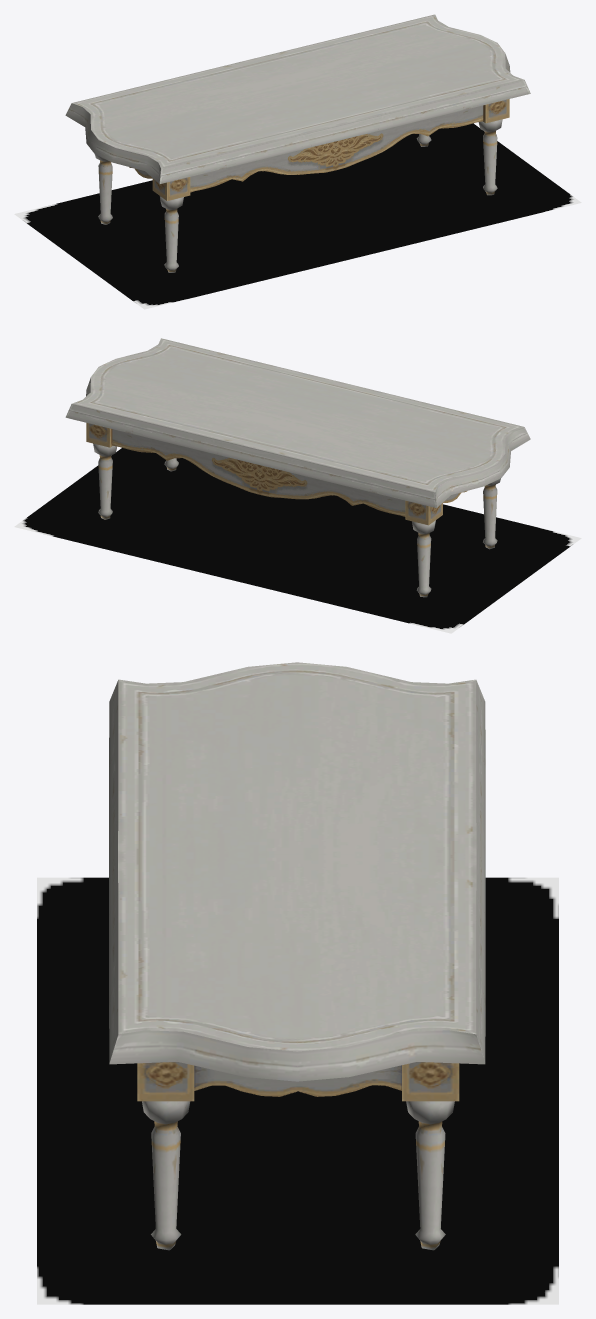
The model's file is jj_ty_table01_01.FBX.
3 views of the same model, one above another, from view 1: azimuth 30°, elevation 25°; view 2: azimuth 150°, elevation 25°; view 3: azimuth 270°, elevation 25° (orthographic). The views are drawn at different scales.
Parts seen in each view (by area): view 1: jj_ty_table01_01, shadow; view 2: jj_ty_table01_01, shadow; view 3: jj_ty_table01_01, shadow.
Boxes of the visible parts, x1,y1,x2,y2 form: jj_ty_table01_01: [65, 14, 530, 272]; shadow: [14, 123, 581, 309]; jj_ty_table01_01: [65, 338, 530, 597]; shadow: [14, 448, 581, 633]; jj_ty_table01_01: [109, 662, 485, 1250]; shadow: [37, 877, 558, 1304].
Size of the model in its own units: 47.24 by 12.31 by 24.41.
Materials: 2 (2 with a texture image).
